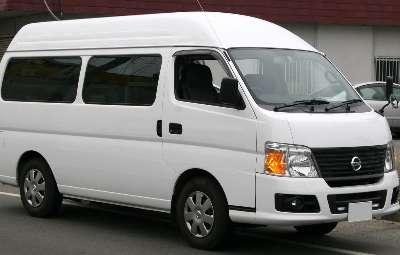van: (1, 12, 400, 248)
